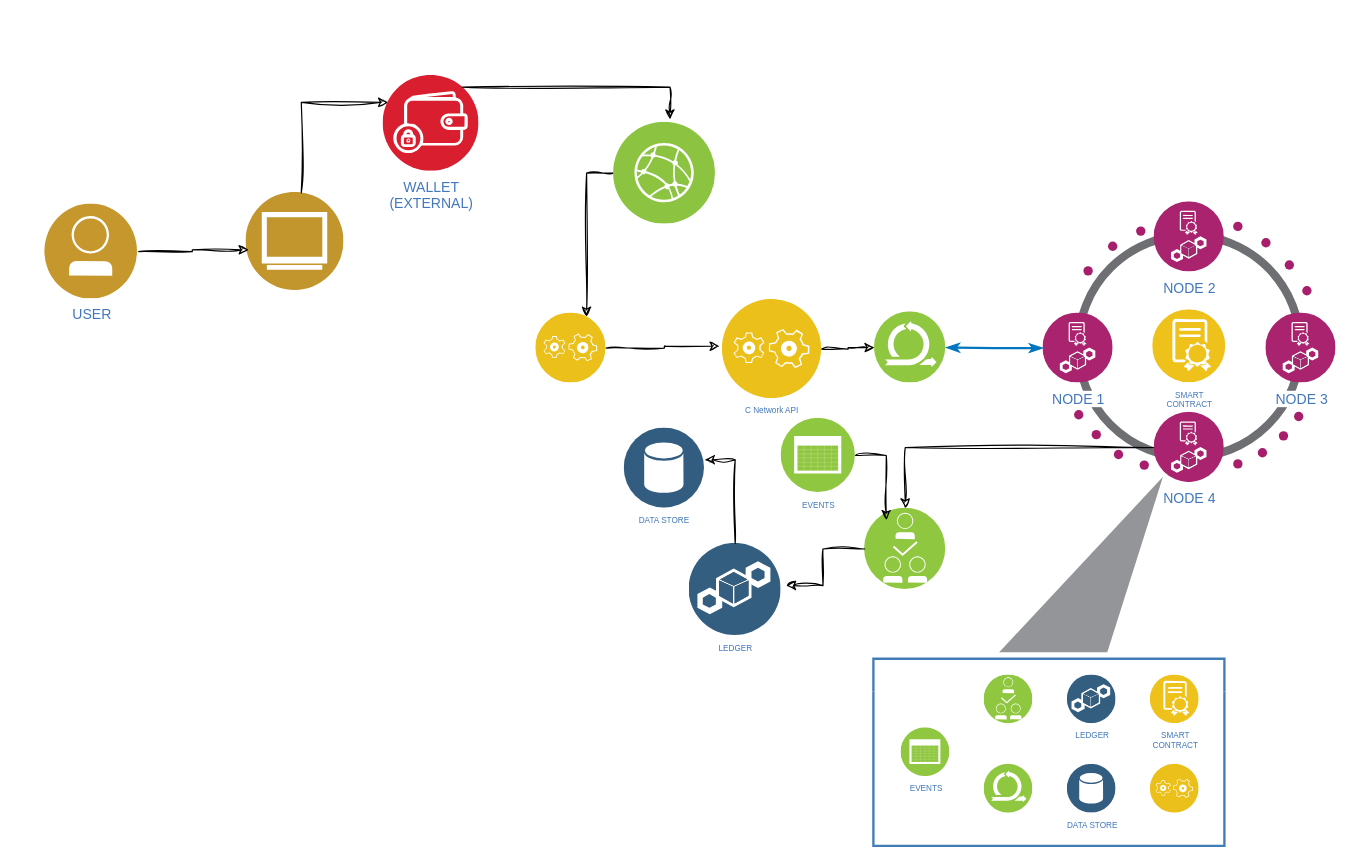
Image size: 1356x867. Some labels were removed from this diagram. Here are the shapes that lost their labels. From the top down, the centre of each, then its label:
At (664,172): "REST API".
At (294,241): "WEB APPLICATION".
At (570,347): "APPLICATION LOGIC".
At (909,347): "RPC COMMUNICATION".
At (904,548): "PoW CONSENSUS ALGO".
At (1008,698): "CONSENSUS".
At (1008,788): "COMMUNICATION".
At (1174,788): "API".
